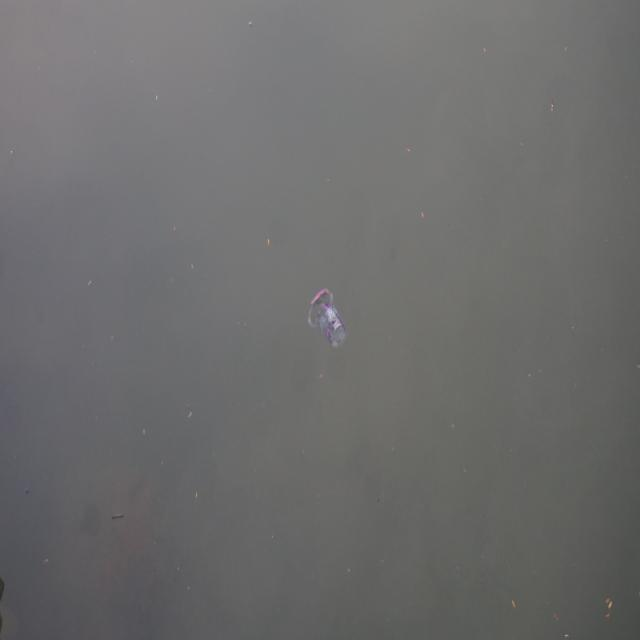Bungkus Minuman: (308, 282, 351, 355)
